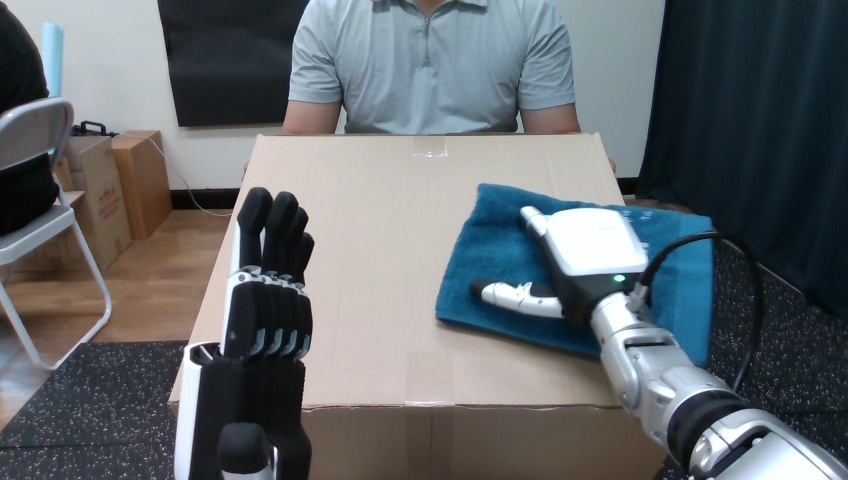left robot hand: (471, 206, 847, 479), (175, 187, 313, 479)
